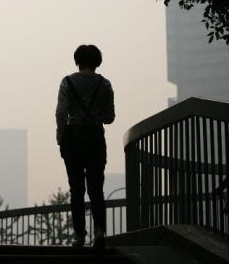person: (54, 44, 117, 246)
